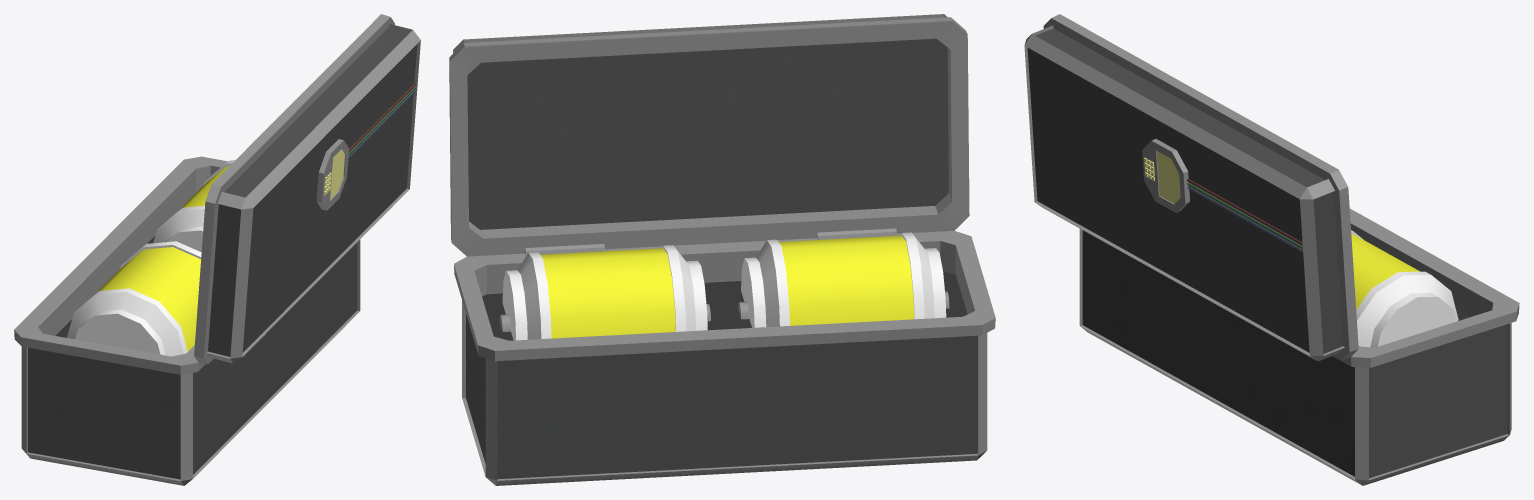
Rendered from Locked_Crate_Open_02.fbx.
3 views of the same model, side by side, from view 1: azimuth 30°, elevation 25°; view 2: azimuth 150°, elevation 25°; view 3: azimuth 270°, elevation 25° (orthographic). The views are drawn at different scales.
Visible parts, largest first — view 1: Locked_Crate_Open_02; view 2: Locked_Crate_Open_02; view 3: Locked_Crate_Open_02.
Part boxes in pixels (box(x1,y1,x2,y2)): Locked_Crate_Open_02: box(14, 14, 420, 485); Locked_Crate_Open_02: box(449, 14, 995, 485); Locked_Crate_Open_02: box(1024, 14, 1519, 485).
Size of the model in its own units: 780 by 523 by 721.
